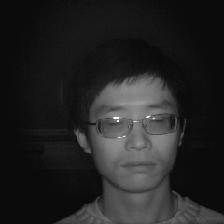normal: (69, 61, 188, 190)
